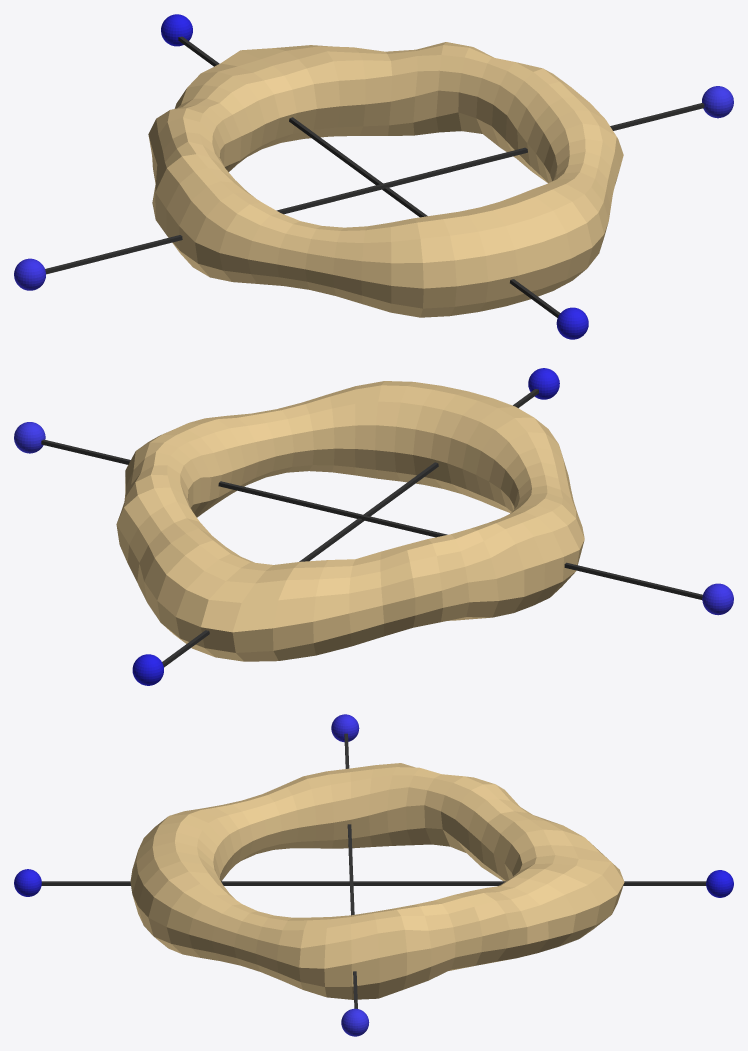
Rendered from satellite11.glb.
3 renders of one model, top to bottom at view 1: azimuth 30°, elevation 25°; view 2: azimuth 150°, elevation 25°; view 3: azimuth 270°, elevation 25°, orthographic. The views are drawn at different scales.
Parts seen in each view (by area): view 1: Torus, Cube.003, Cube, Sphere.001, Sphere.002, Sphere, Sphere.003; view 2: Torus, Cube.003, Cube, Sphere.002, Sphere.003, Sphere, Sphere.001; view 3: Torus, Cube, Cube.003, Sphere, Sphere.003, Sphere.001, Sphere.002.
Part boxes in pixels (bbox=[...]): Torus: bbox=[148, 42, 623, 317]; Cube.003: bbox=[45, 103, 704, 274]; Cube: bbox=[178, 36, 560, 317]; Sphere.001: bbox=[556, 307, 588, 339]; Sphere.002: bbox=[14, 258, 45, 290]; Sphere: bbox=[702, 86, 733, 118]; Sphere.003: bbox=[161, 14, 192, 46]; Torus: bbox=[116, 381, 584, 661]; Cube.003: bbox=[41, 439, 702, 599]; Cube: bbox=[162, 389, 538, 667]; Sphere.002: bbox=[702, 583, 733, 615]; Sphere.003: bbox=[132, 654, 163, 685]; Sphere: bbox=[14, 422, 45, 453]; Sphere.001: bbox=[528, 368, 559, 399]; Torus: bbox=[130, 763, 624, 999]; Cube: bbox=[41, 881, 706, 885]; Cube.003: bbox=[344, 733, 357, 1008]; Sphere: bbox=[341, 1008, 369, 1036]; Sphere.003: bbox=[706, 870, 733, 897]; Sphere.001: bbox=[14, 869, 41, 896]; Sphere.002: bbox=[331, 714, 359, 742].
Bounding box in the file's own units: 4.07 × 0.5407 × 4.05.
